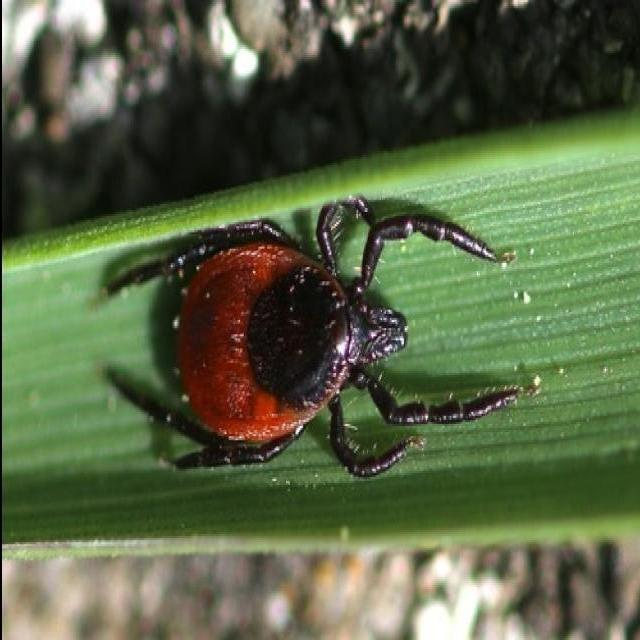Ixodes Ricinus-F: (87, 194, 538, 479)
